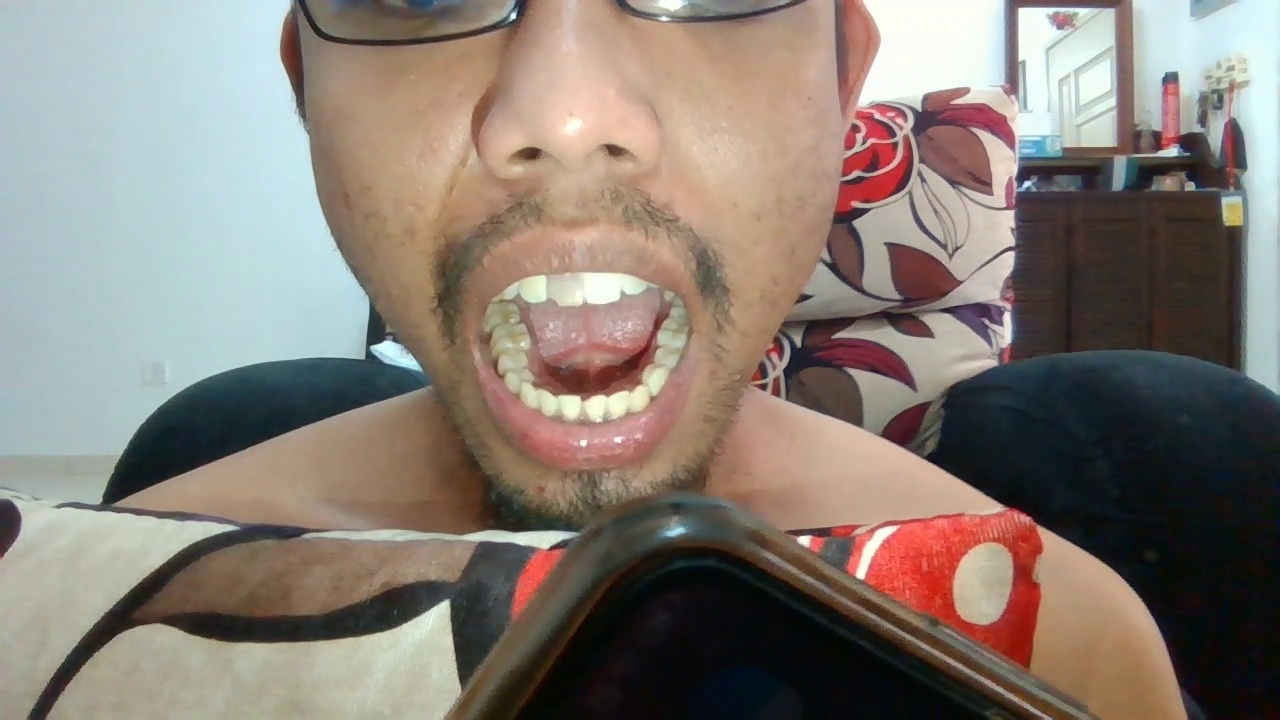1st Molar: (490, 324, 531, 350), (656, 321, 690, 347)
1st Premolar: (643, 363, 670, 395), (505, 370, 534, 391)
2nd Molar: (484, 302, 520, 325)
2nd Premolar: (497, 351, 527, 371), (654, 346, 679, 365)
Canine: (631, 384, 650, 411), (521, 381, 538, 407), (502, 281, 518, 300)
Central Incisor: (546, 272, 586, 306), (587, 272, 622, 304), (582, 393, 608, 421), (557, 393, 582, 420)
Lateral Incisor: (518, 273, 546, 303), (608, 390, 630, 419), (536, 388, 557, 417), (622, 271, 647, 295)
